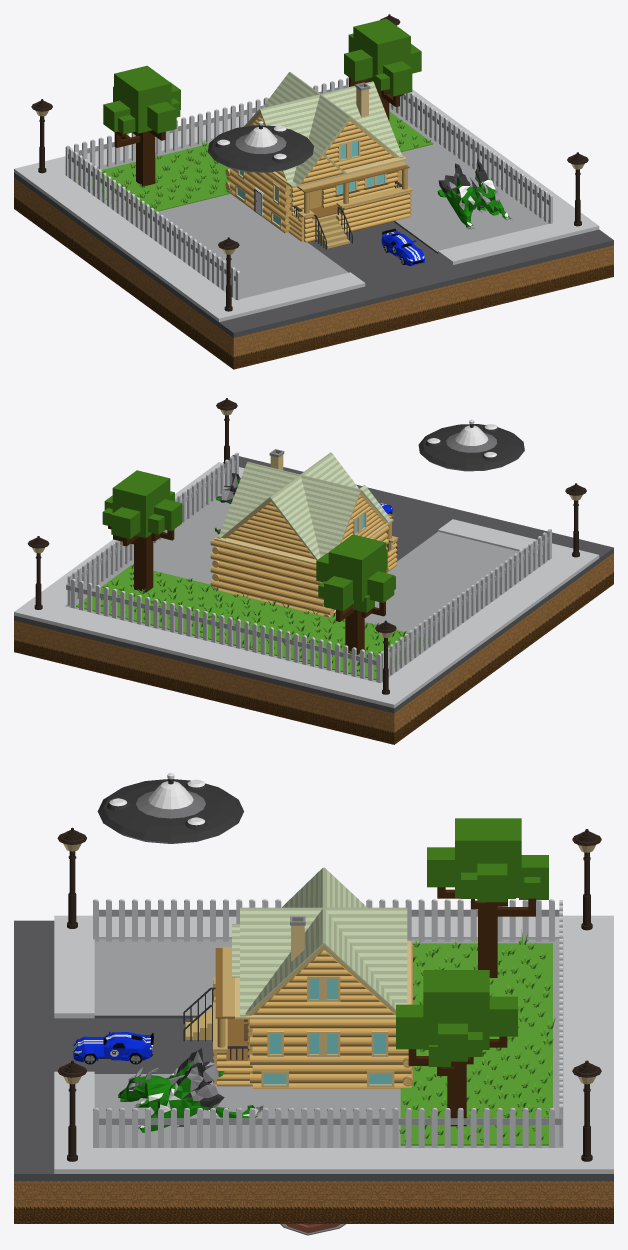
The picture shows the model from 3 angles, top to bottom: view 1: azimuth 30°, elevation 25°; view 2: azimuth 150°, elevation 25°; view 3: azimuth 270°, elevation 25°; orthographic projection. The views are drawn at different scales.
Visible parts, largest first — view 1: Cube.004, Cube.1516, OBJRANDOM_UFO, ANIMAL_DRAGON, VEHICLES_RACING_CAR; view 2: Cube.004, Cube.1516, OBJRANDOM_UFO; view 3: Cube.004, Cube.1516, OBJRANDOM_UFO, ANIMAL_DRAGON, VEHICLES_RACING_CAR.
Boxes of the visible parts, left/top/right/bottom form: Cube.004: left=14, top=14, right=613, bottom=369; Cube.1516: left=225, top=72, right=412, bottom=249; OBJRANDOM_UFO: left=208, top=121, right=313, bottom=172; ANIMAL_DRAGON: left=437, top=158, right=512, bottom=229; VEHICLES_RACING_CAR: left=381, top=228, right=424, bottom=265; Cube.004: left=14, top=398, right=613, bottom=744; Cube.1516: left=210, top=449, right=398, bottom=617; OBJRANDOM_UFO: left=418, top=419, right=524, bottom=471; Cube.004: left=14, top=818, right=613, bottom=1223; Cube.1516: left=183, top=867, right=412, bottom=1088; OBJRANDOM_UFO: left=97, top=773, right=243, bottom=843; ANIMAL_DRAGON: left=118, top=1048, right=263, bottom=1133; VEHICLES_RACING_CAR: left=73, top=1031, right=153, bottom=1064.
Bounding box in the file's own units: 4000 × 2658 × 4000.
42 materials, 4 textured.
